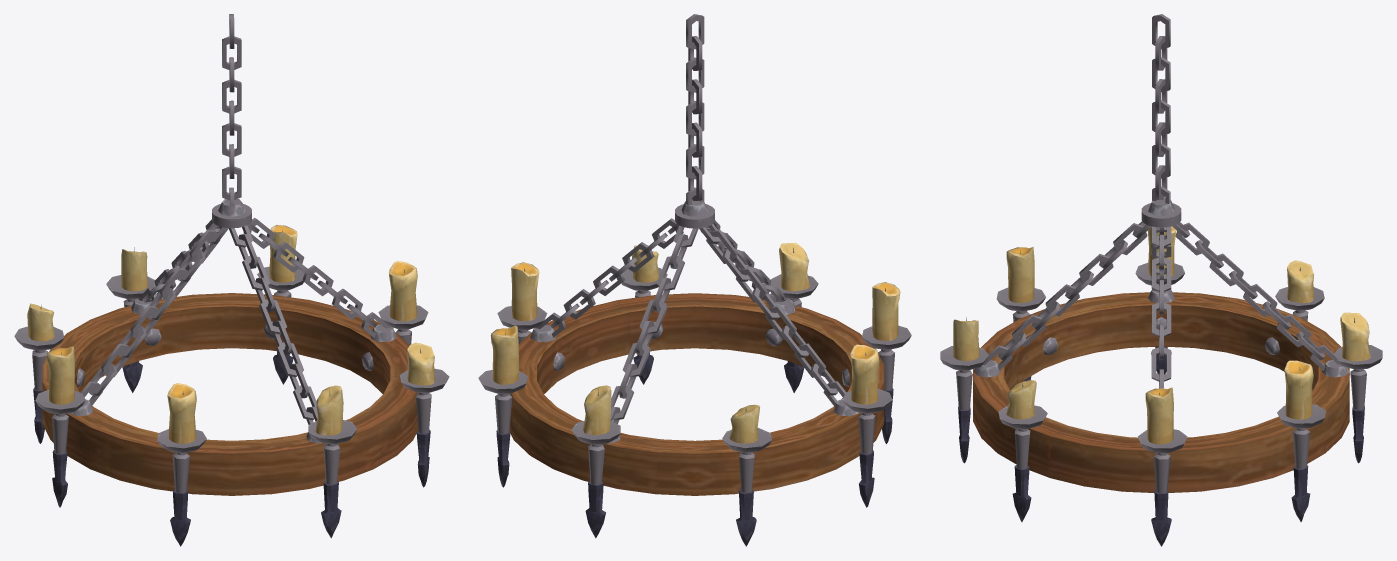
File: chandelier.glb
3 views of the same model, side by side, from view 1: azimuth 30°, elevation 25°; view 2: azimuth 150°, elevation 25°; view 3: azimuth 270°, elevation 25° (orthographic).
Parts seen in each view (by area): view 1: Chandelier; view 2: Chandelier; view 3: Chandelier.
Part boxes in pixels (left/top/right/bottom): Chandelier: left=14, top=14, right=449, bottom=546; Chandelier: left=478, top=14, right=911, bottom=546; Chandelier: left=940, top=14, right=1382, bottom=546.
Bounding box in the file's own units: 1.3 × 1.46 × 1.3.
Materials: 3 (3 with a texture image).
